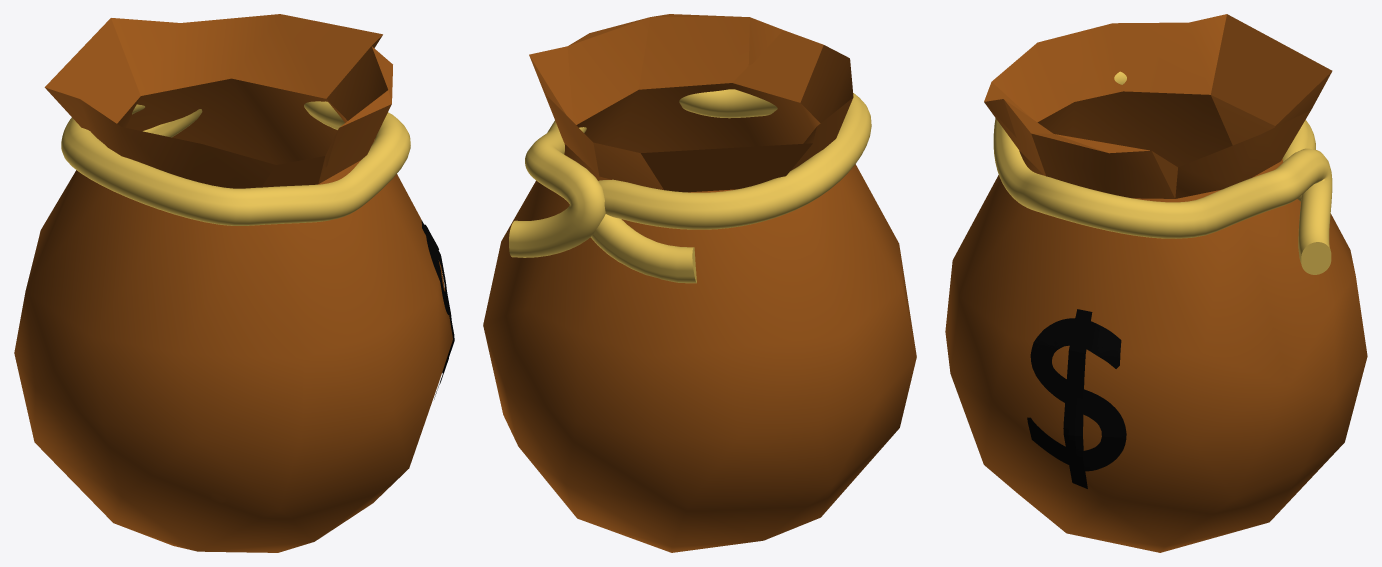
The model's file is CoinBag.fbx.
3 renders of one model, left to right at view 1: azimuth 30°, elevation 25°; view 2: azimuth 150°, elevation 25°; view 3: azimuth 270°, elevation 25°, orthographic. The views are drawn at different scales.
Parts seen in each view (by area): view 1: Bag, Rope, DollarSign; view 2: Bag, Rope; view 3: Bag, Rope, DollarSign.
Part boxes in pixels (left/top/right/bottom): Bag: left=14, top=14, right=452, bottom=552; Rope: left=61, top=101, right=410, bottom=225; DollarSign: left=421, top=220, right=454, bottom=399; Bag: left=483, top=14, right=916, bottom=552; Rope: left=509, top=89, right=871, bottom=283; Bag: left=945, top=14, right=1367, bottom=552; Rope: left=993, top=71, right=1332, bottom=274; DollarSign: left=1027, top=309, right=1126, bottom=488.
Bounding box in the file's own units: 209 × 237 × 208.
